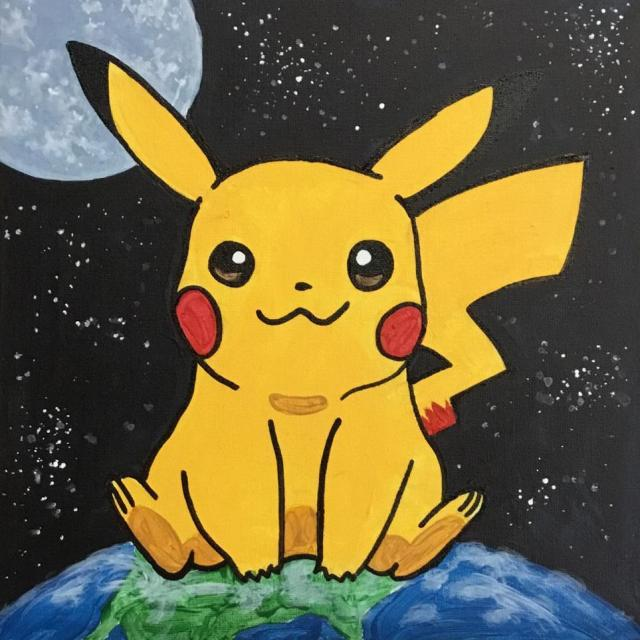pikachu: (67, 42, 587, 582)
